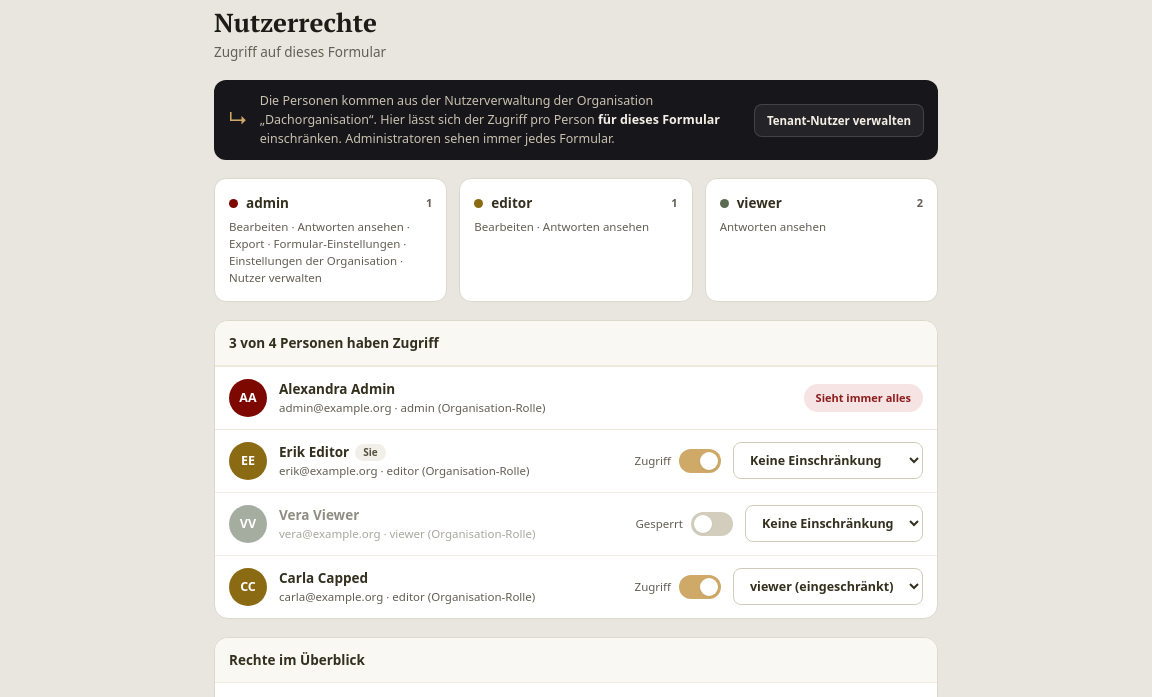
Test: Nutzerrechte je Formular › drops the form from the Dashboard grid without a reload once the acting person’s own access is revoked
Click the switch labelled "Zugriff" in the row of "EE" at (678, 461), box [635, 449, 721, 473]
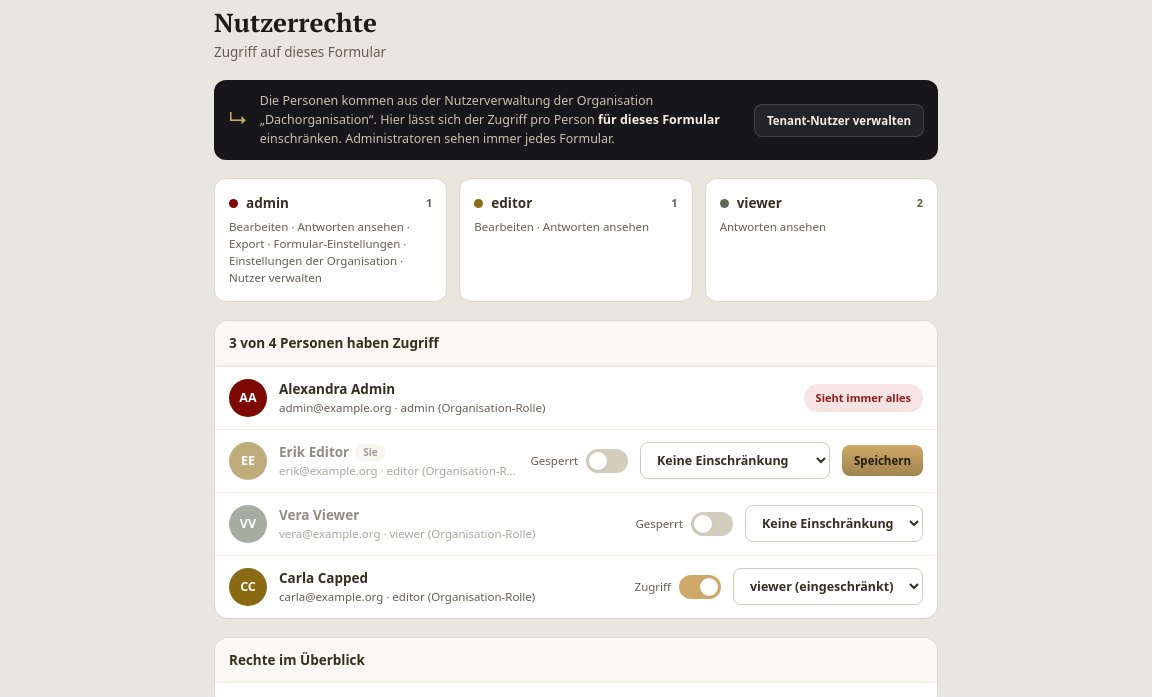
Click the button "Speichern" at (882, 461), box [842, 445, 923, 476]
(page scrolled)
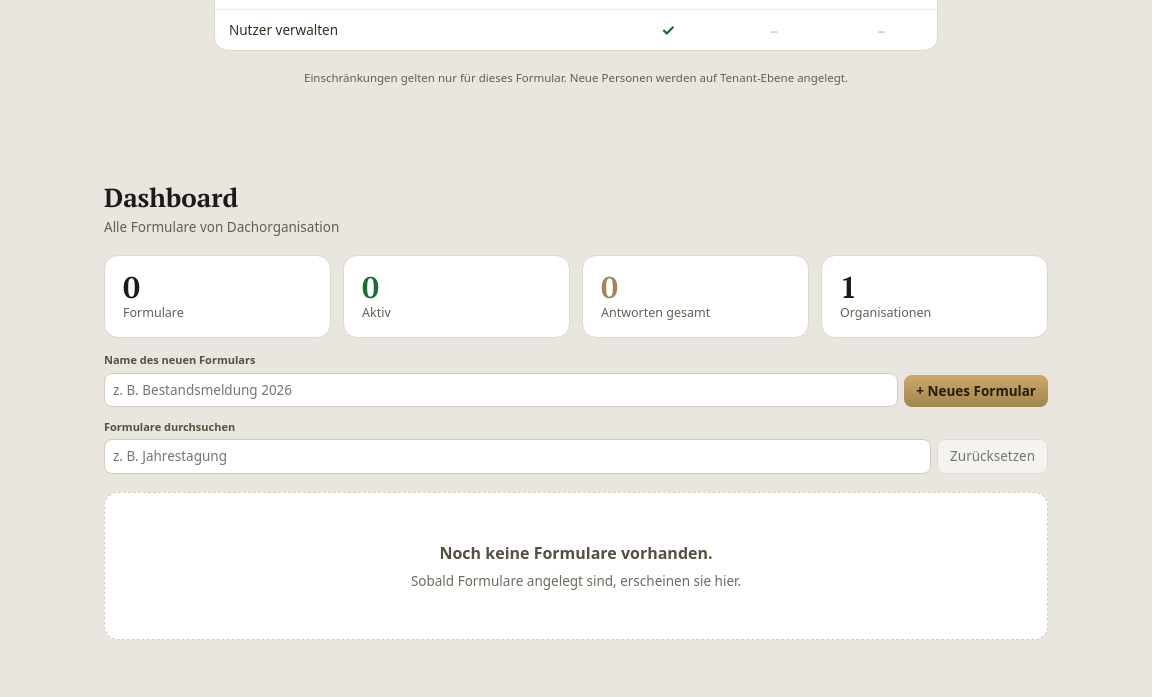
expect the text "Noch keine Formulare vorhanden." is shown: met, box [440, 542, 713, 564]
